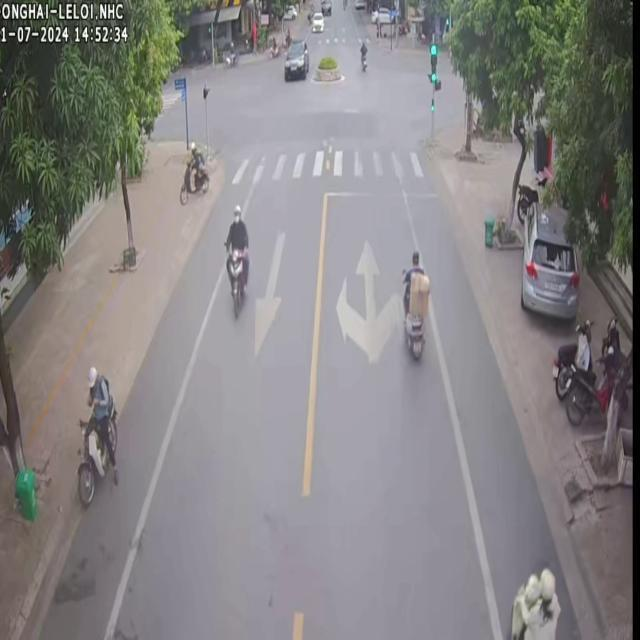car: (519, 200, 577, 318), (283, 38, 307, 79)
green_light: (430, 44, 437, 89)
motobike: (76, 365, 117, 505), (564, 347, 617, 424), (550, 318, 590, 398), (402, 249, 428, 358), (223, 202, 247, 316), (178, 147, 207, 202), (358, 38, 366, 69)
stop_line: (329, 191, 437, 197)
